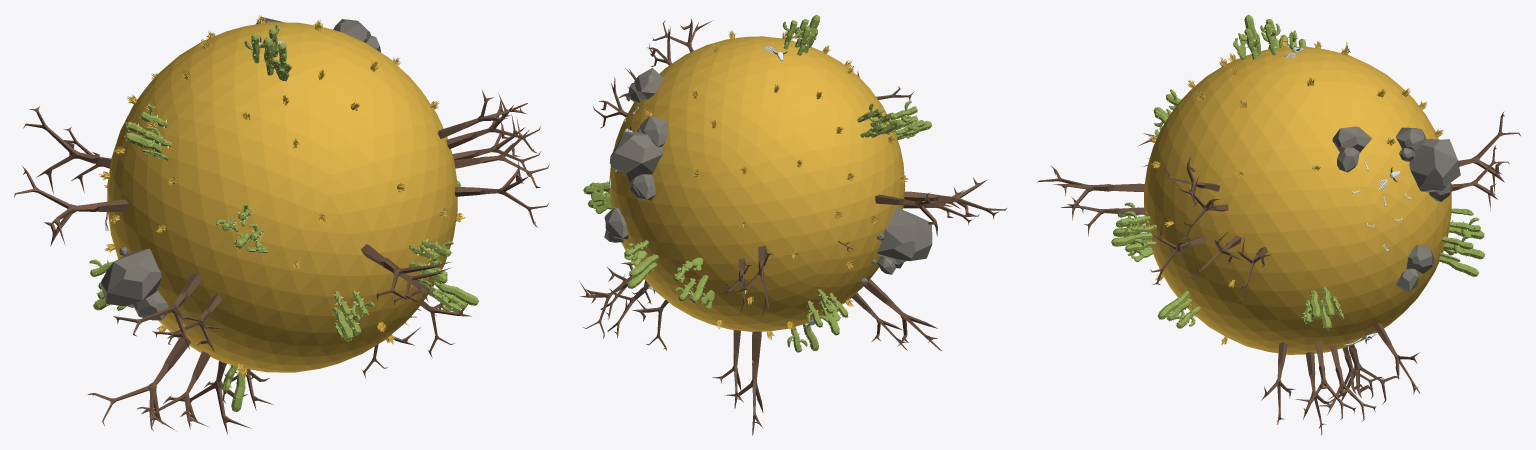
Rendered from DesertPlanet.fbx.
3 views of the same model, side by side, from view 1: azimuth 30°, elevation 25°; view 2: azimuth 150°, elevation 25°; view 3: azimuth 270°, elevation 25° (orthographic). The views are drawn at different scales.
Parts seen in each view (by area): view 1: Big dead tree.078; view 2: Big dead tree.078; view 3: Big dead tree.078.
Part boxes in pixels (left/top/right/bottom): Big dead tree.078: left=14, top=15, right=549, bottom=434; Big dead tree.078: left=579, top=14, right=1006, bottom=435; Big dead tree.078: left=1037, top=14, right=1520, bottom=435.
Size of the model in its own units: 3765 by 3349 by 3768.
